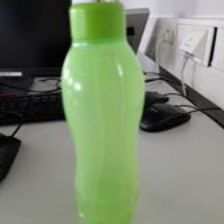bottle: (59, 1, 147, 223)
